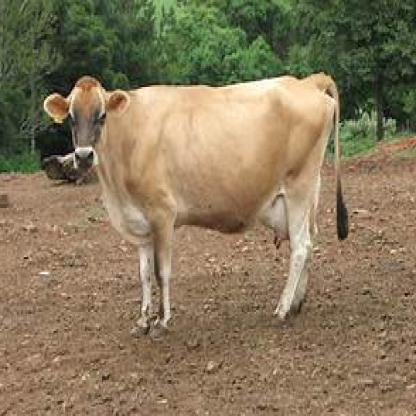cow: (44, 70, 352, 337)
